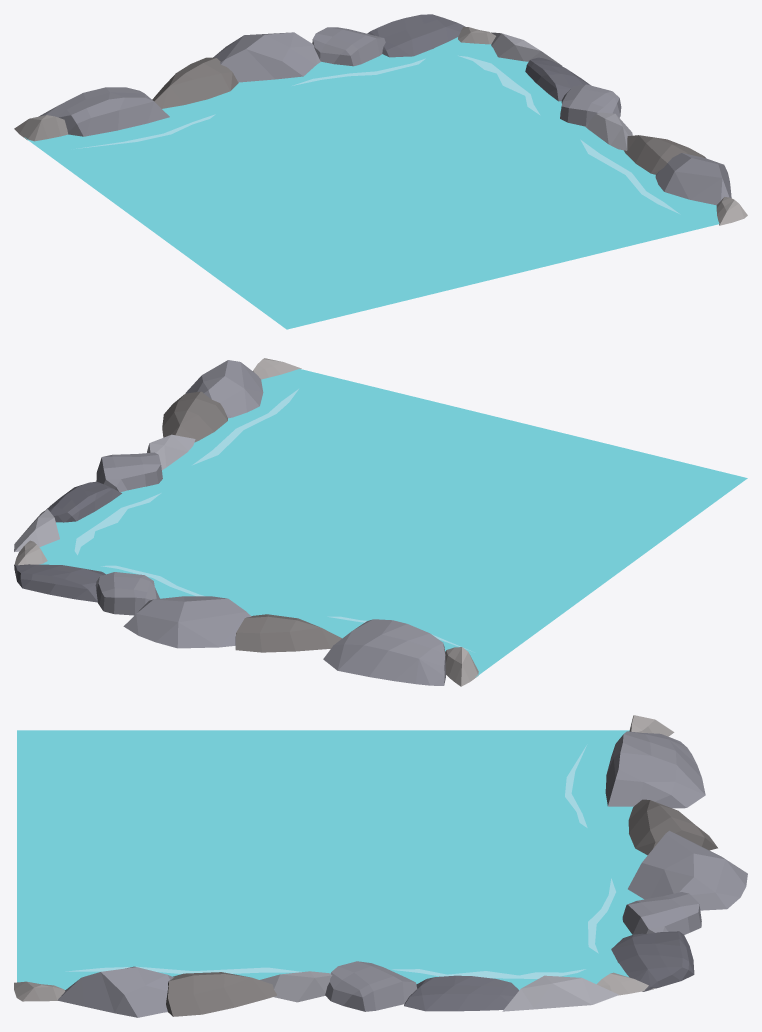
File: WaterPatchCornerOutside_01.glb
3 renders of one model, top to bottom at view 1: azimuth 30°, elevation 25°; view 2: azimuth 150°, elevation 25°; view 3: azimuth 270°, elevation 25°, orthographic. The views are drawn at different scales.
Parts seen in each view (by area): view 1: WaterPatchCornerOutside_01; view 2: WaterPatchCornerOutside_01; view 3: WaterPatchCornerOutside_01.
Part boxes in pixels (bbox=[...]): WaterPatchCornerOutside_01: bbox=[14, 14, 747, 329]; WaterPatchCornerOutside_01: bbox=[14, 358, 747, 686]; WaterPatchCornerOutside_01: bbox=[14, 715, 747, 1017].
Size of what is drawn, in the model's own units: 6.92 by 0.3772 by 7.48.
Materials: 1 (1 with a texture image).
